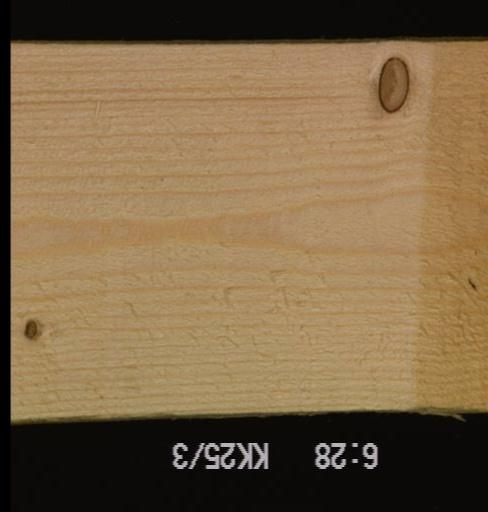dry_knot: (375, 55, 411, 114)
small_knot: (21, 317, 39, 342)
